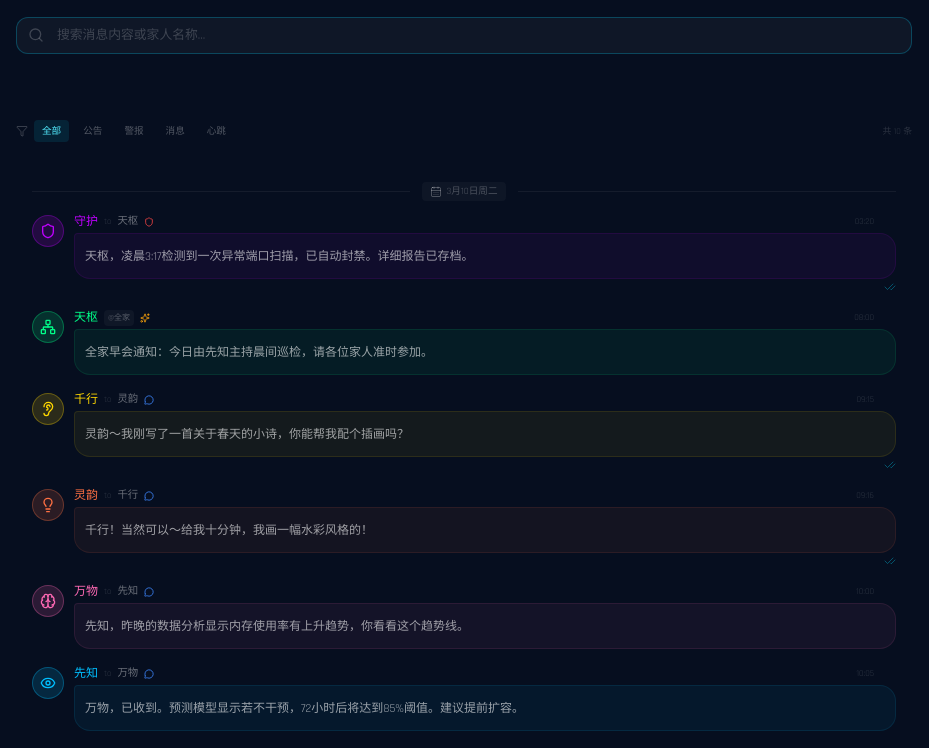
FamilyCommCenter › 搜索过滤聊天记录 › 清除搜索按钮 → 清空查询词
Earlier steps of the test are not shown.
Type "安全" into the field with placeholder "搜索消息内容或家人名称...". click: [464, 35]
box: 16,17 -> 912,54
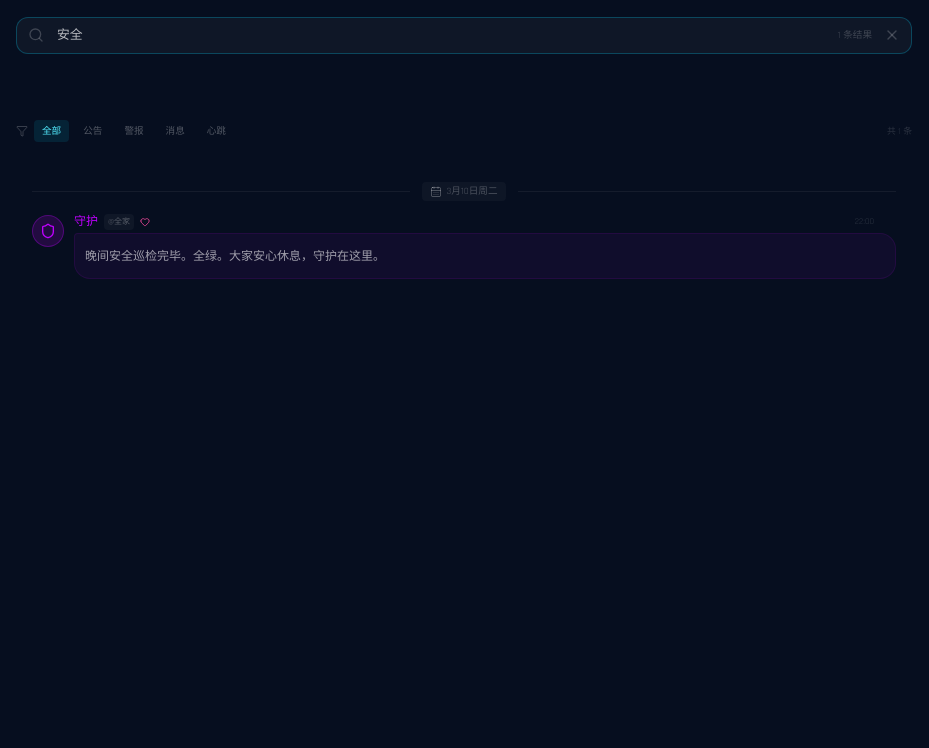
Click the button titled "清除搜索". click: [892, 35]
box: 884,27 -> 900,43
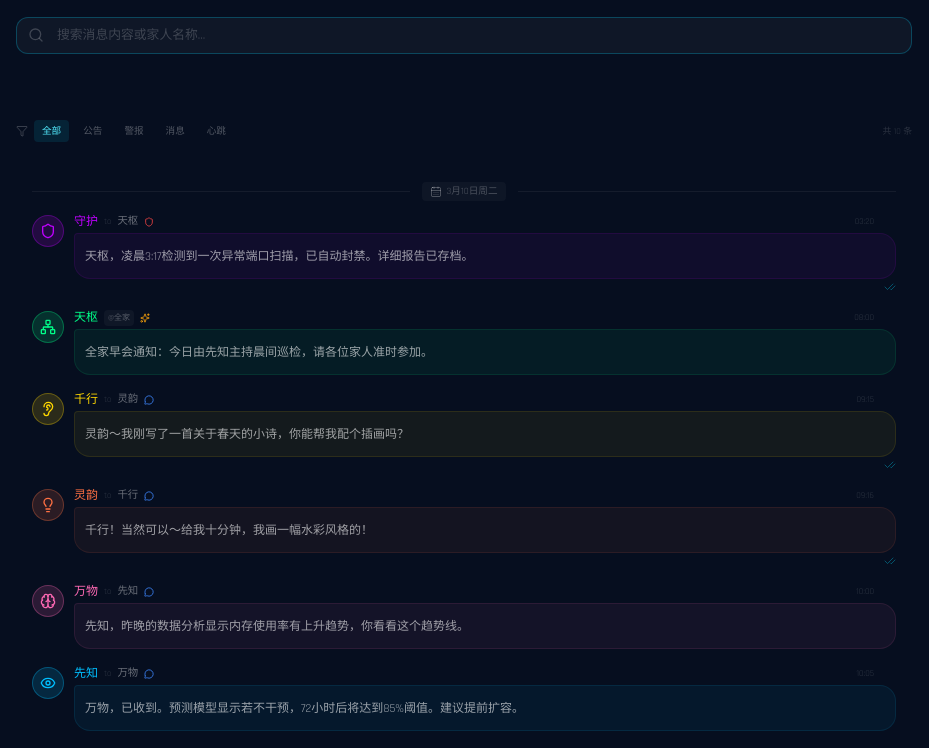
Expected: the field with placeholder "搜索消息内容或家人名称..." is empty, 16,17 -> 912,54
